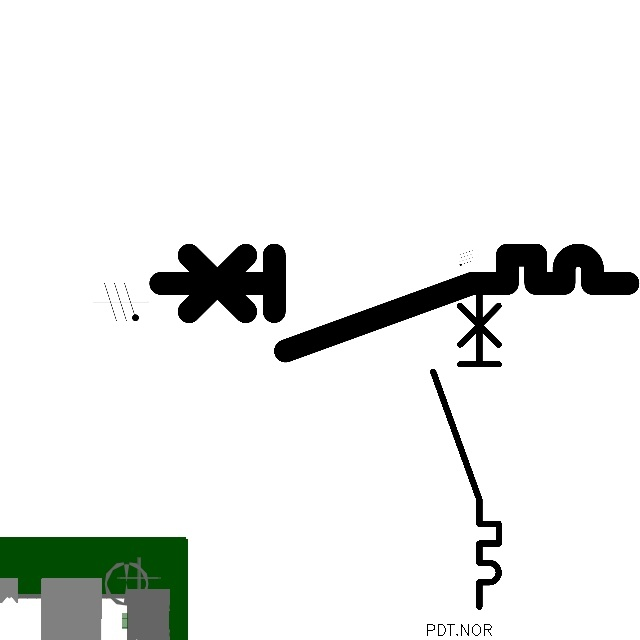interruptor_termomagnetico: (148, 243, 639, 363), (425, 278, 507, 615)
